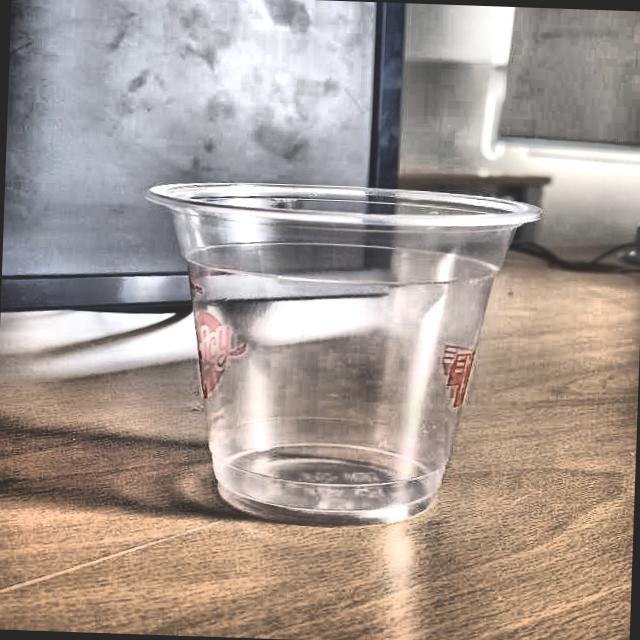plastic cup: (130, 175, 544, 534)
